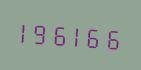nine: (34, 17, 50, 48)
one: (17, 16, 33, 47), (69, 19, 85, 50)
six: (52, 18, 68, 49), (86, 21, 102, 52), (103, 22, 119, 53)
